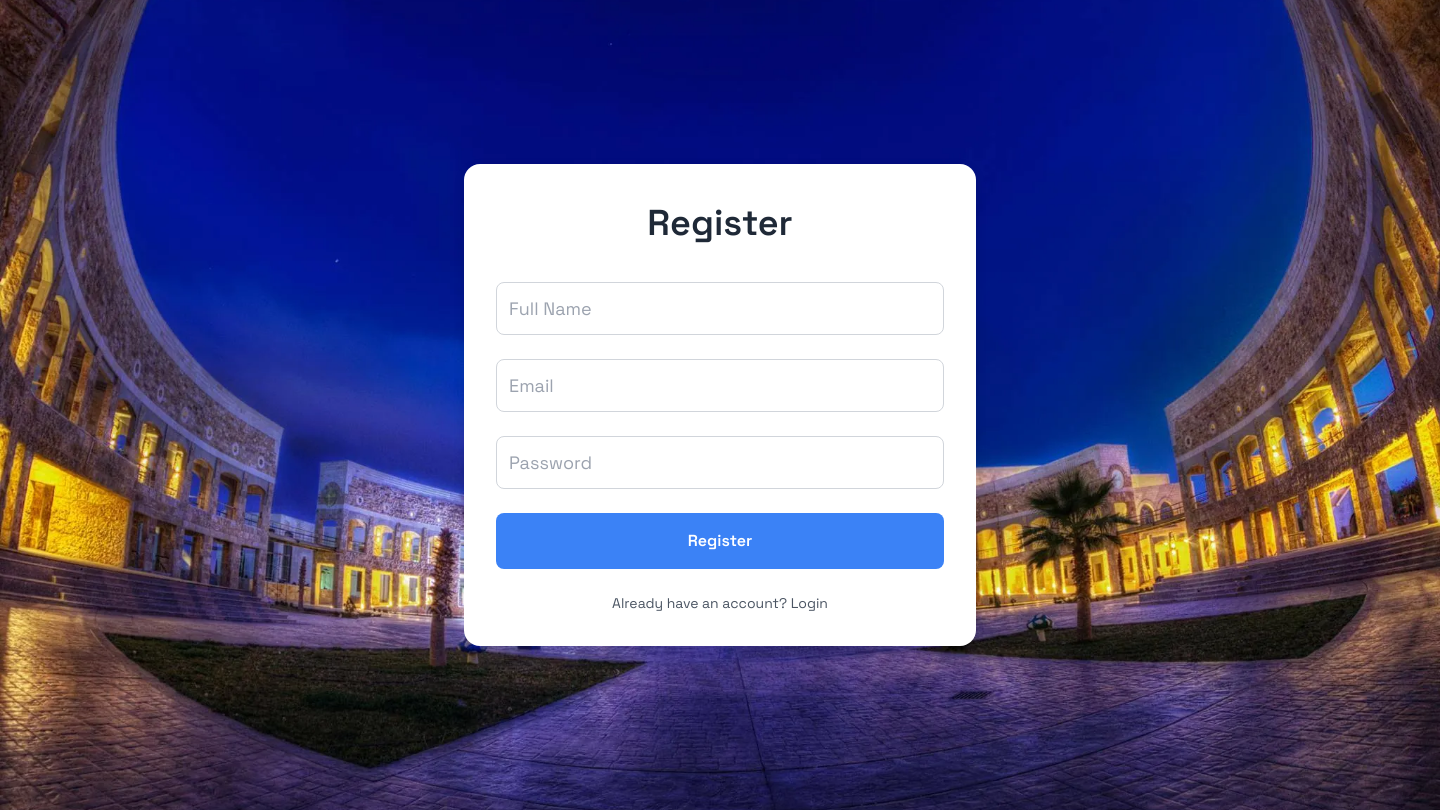
Test: RegisterForm › RegisterForm validation › shows error for name longer than 40 characters
This screenshot has width=1440, height=810.
Type "nnnnnnnnnnnnnnnnnnnnnnnnnnnnnnnnnnnnnnnnnnnnnnnnnnnnnnnnnnnnnnnnnn" into the field with placeholder "Full Name" at (720, 308), box [496,282,944,335]
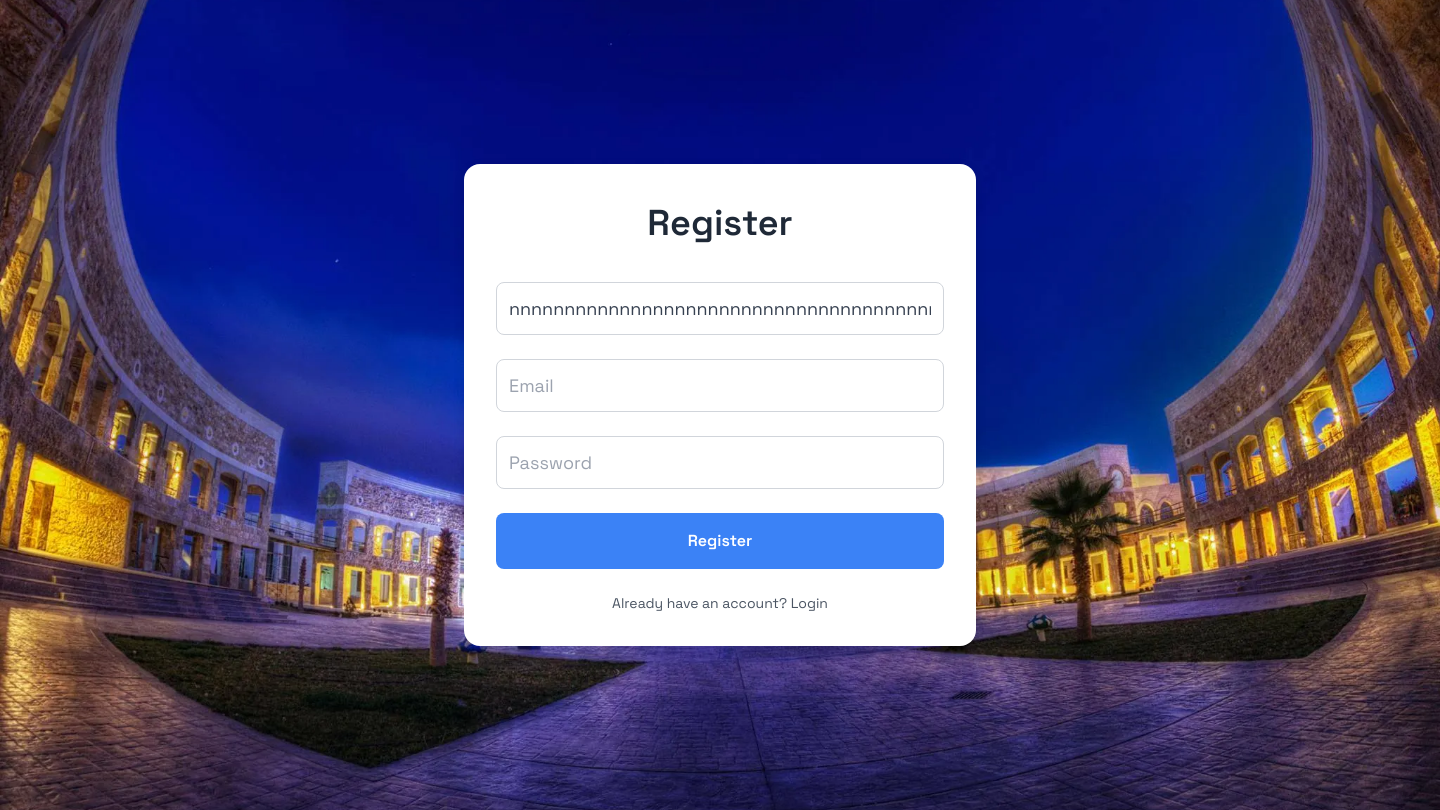
Type "valid@email.com" into the field with placeholder "Email" at (720, 386), box [496,359,944,412]
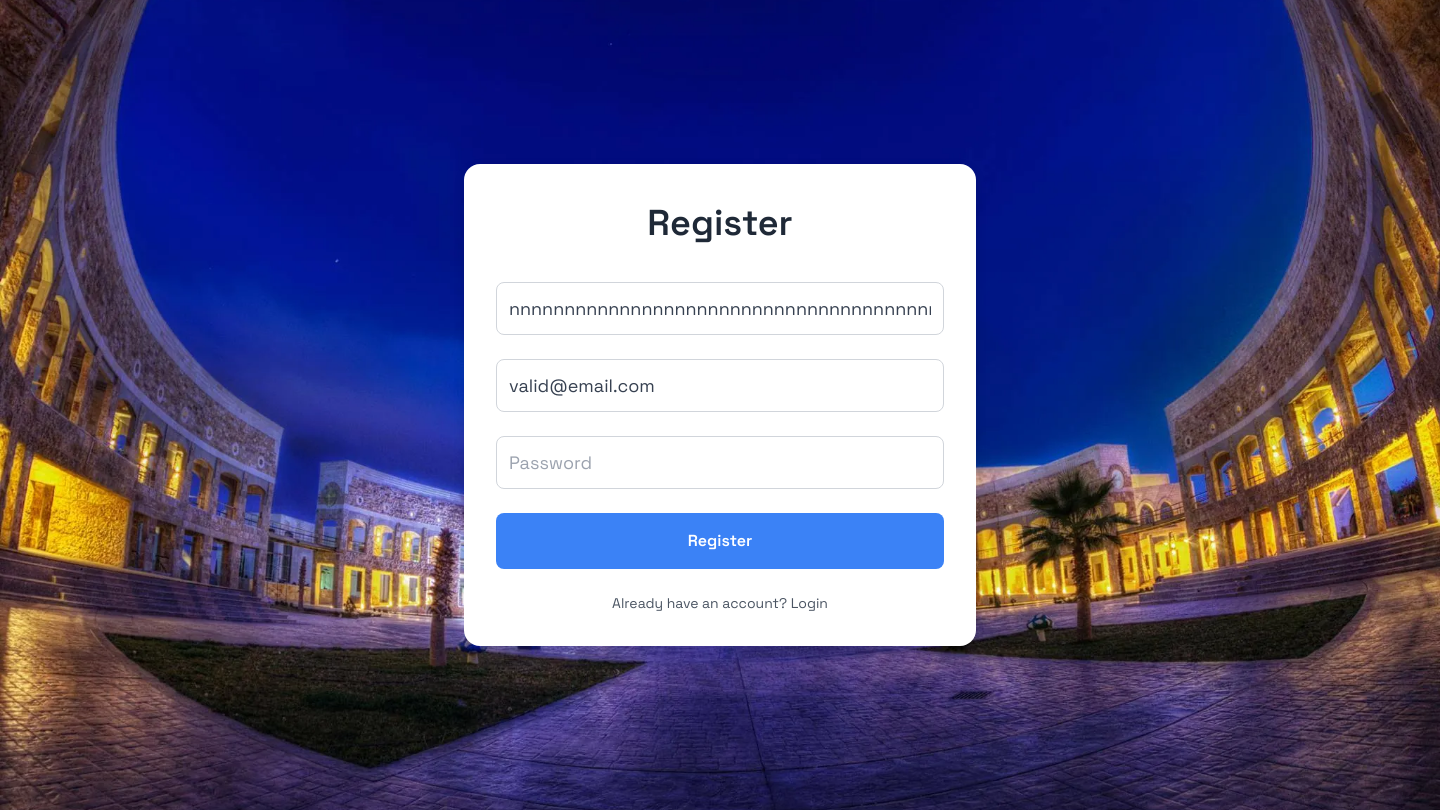
Type "validpass1" into the password field with placeholder "Password" at (720, 462), box [496,436,944,489]
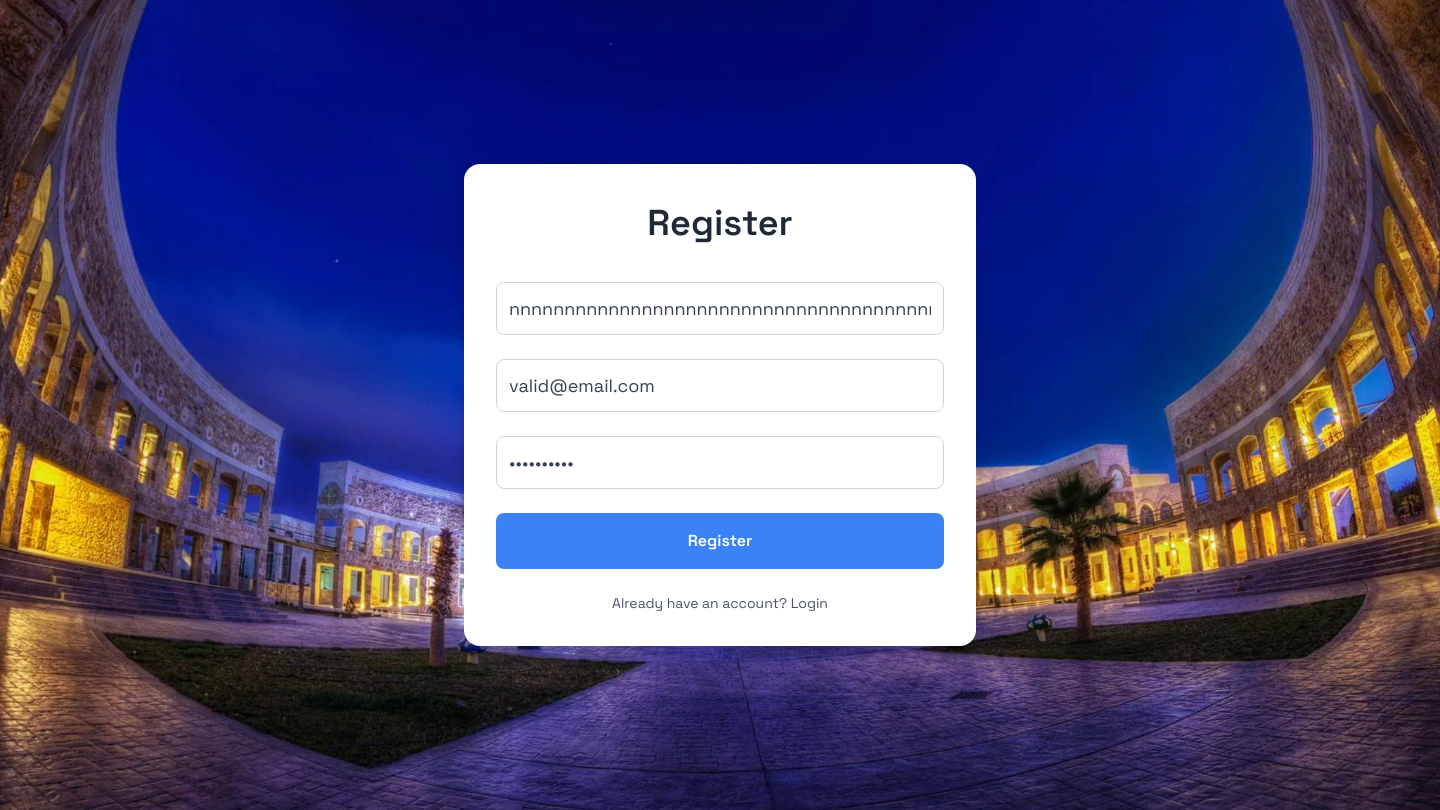
Click the button "Register" at (720, 541), box [496,513,944,569]
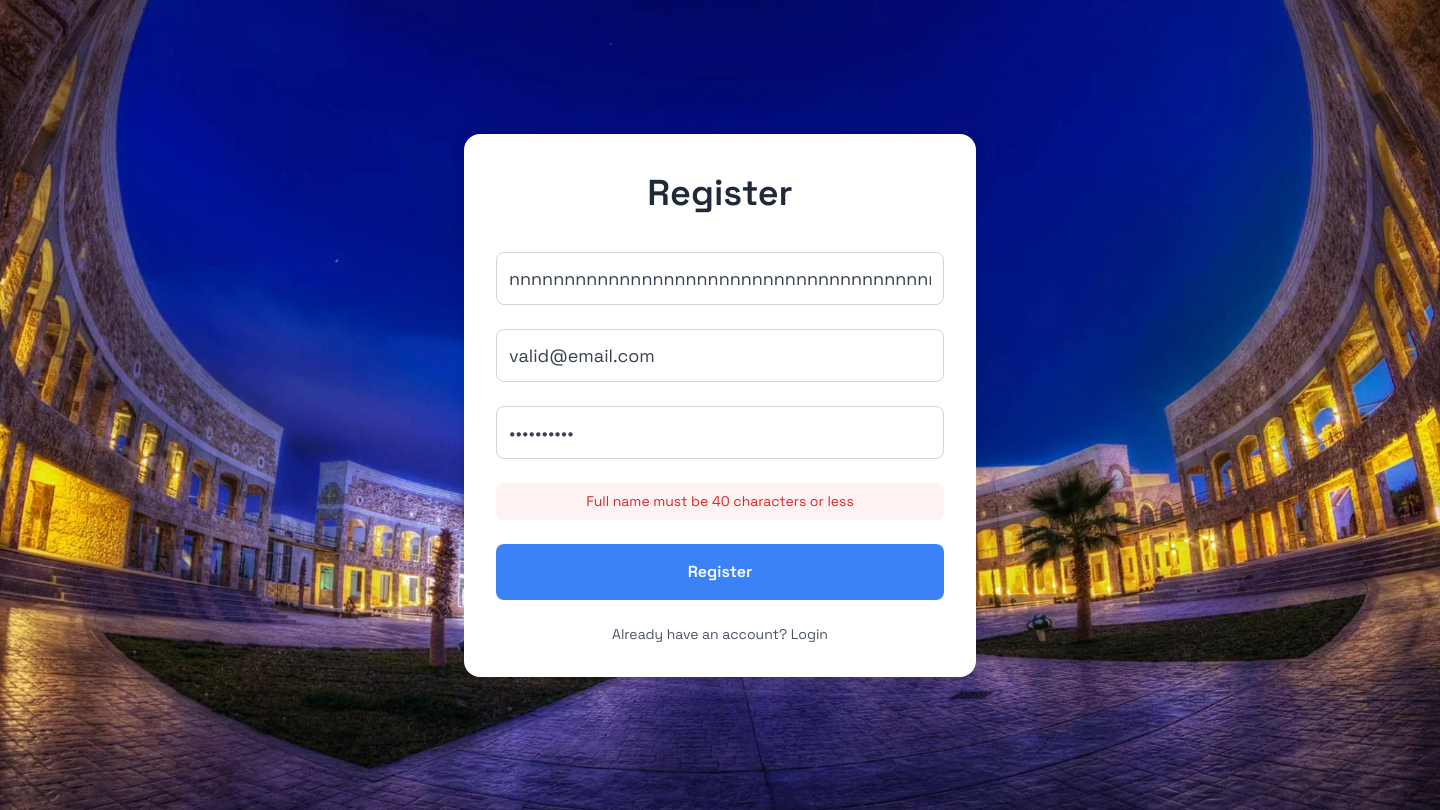
Check: the text "Full name must be 40 characters or less" is shown, box [496,482,944,520]
